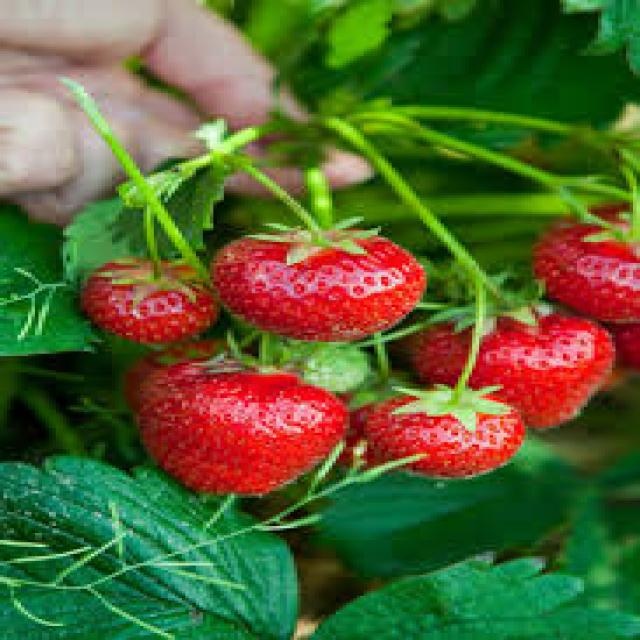strawberry: (185, 178, 449, 342), (405, 290, 618, 430), (147, 354, 341, 499), (370, 375, 508, 475), (74, 254, 205, 336)
